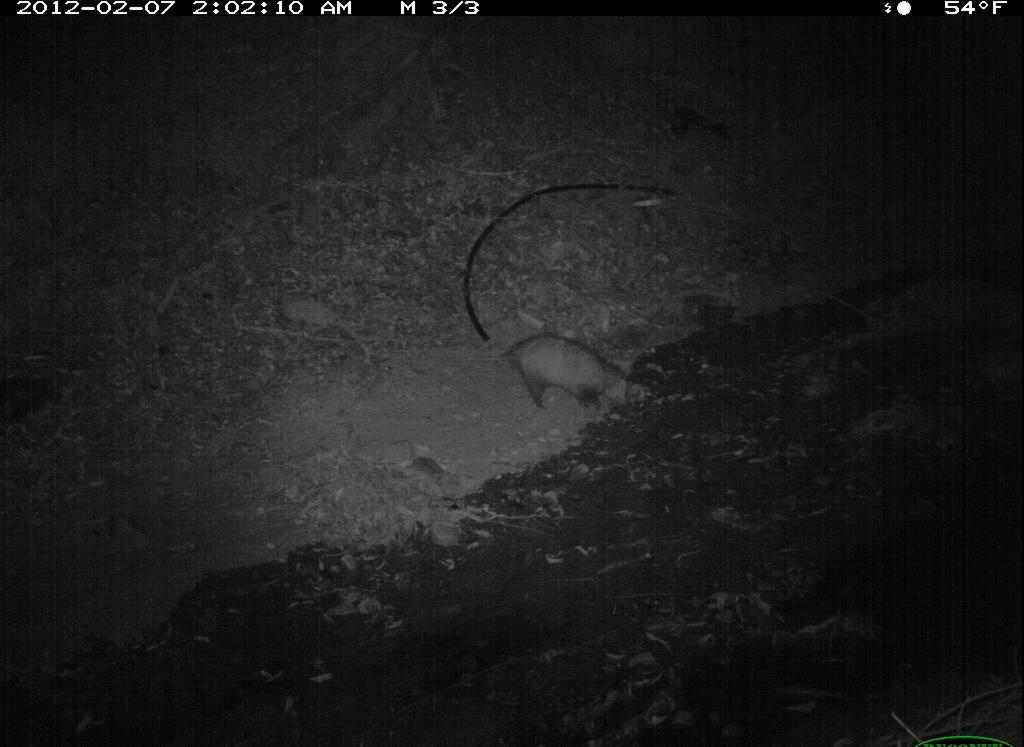opossum: (496, 331, 638, 425)
